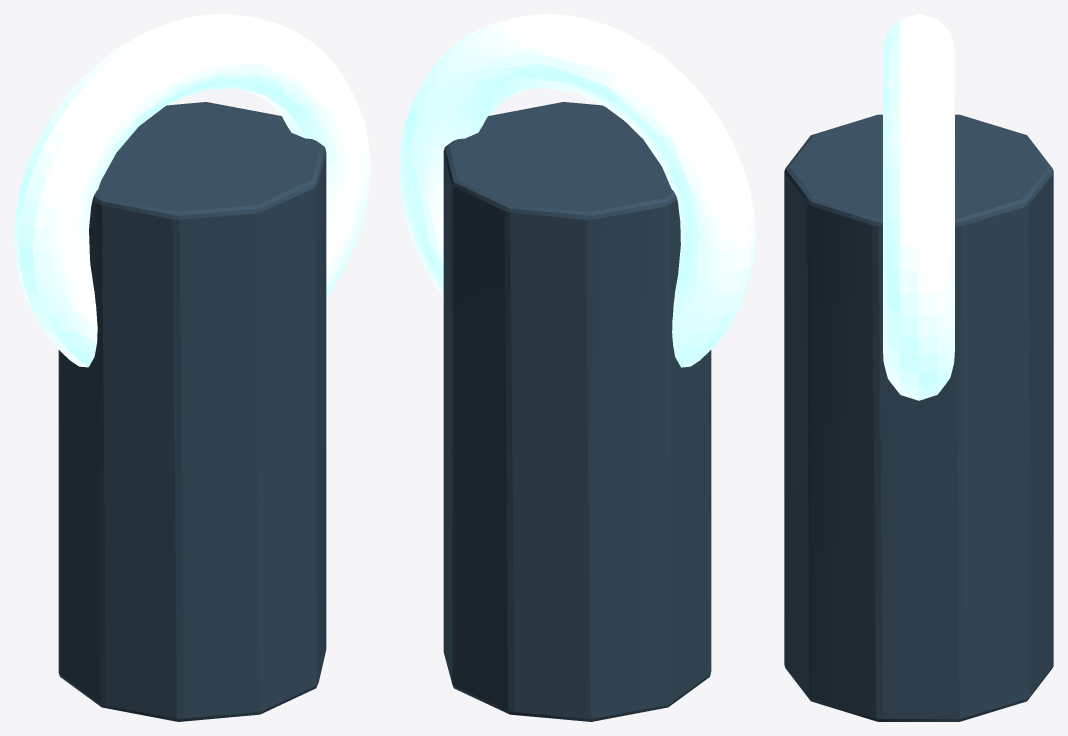
Rendered from SM_Rheinufer_Bollard_LOD1.fbx.
The picture shows the model from 3 angles, left to right: view 1: azimuth 30°, elevation 25°; view 2: azimuth 150°, elevation 25°; view 3: azimuth 270°, elevation 25°; orthographic projection.
Parts seen in each view (by area): view 1: SM_Rheinufer_Bollard_LOD1; view 2: SM_Rheinufer_Bollard_LOD1; view 3: SM_Rheinufer_Bollard_LOD1.
Part boxes in pixels (box(x1,y1,x2,y2)): SM_Rheinufer_Bollard_LOD1: box(14, 14, 370, 721); SM_Rheinufer_Bollard_LOD1: box(399, 14, 755, 721); SM_Rheinufer_Bollard_LOD1: box(784, 14, 1053, 721).
Bounding box in the file's own units: 0.64 × 1.14 × 0.4365.
